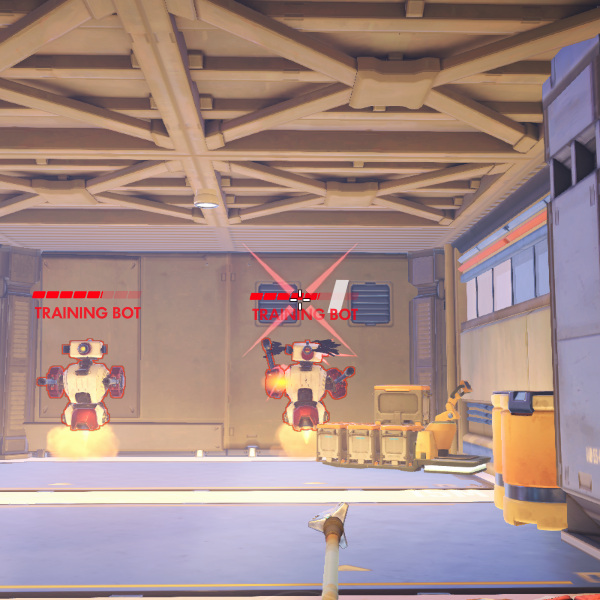hpbar: (32, 291, 142, 299), (250, 293, 359, 300)
